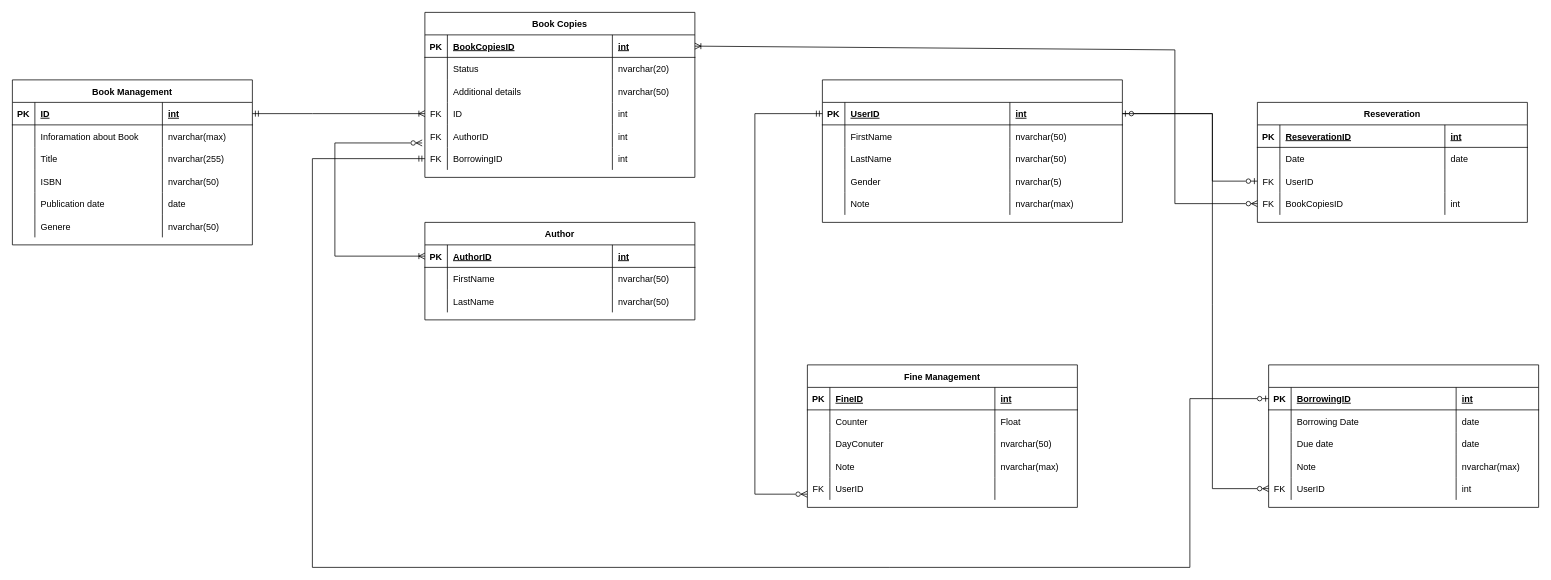
Image size: 1551x580. Some labels were removed from this diagram. Each missing label, with the box of its shape:
Borrowing and returns: (1268, 364, 1539, 507)
User Management: (822, 79, 1122, 222)
